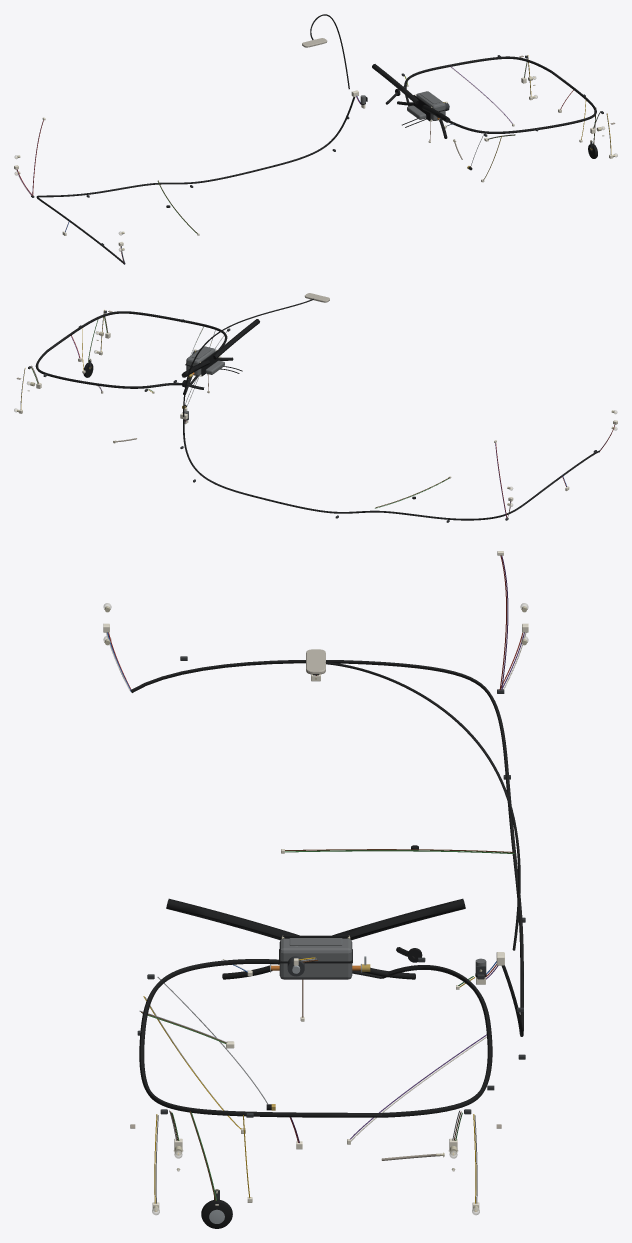
The model's file is electricite.glb.
3 renders of one model, top to bottom at view 1: azimuth 30°, elevation 25°; view 2: azimuth 150°, elevation 25°; view 3: azimuth 270°, elevation 25°, orthographic. The views are drawn at different scales.
Visible parts, largest first — view 1: faisceau-arriere.gaine-faisceau, faisceau-avant.gaine-faisceau, chauffage.noir, chauffage.plastique-gris; view 2: faisceau-arriere.gaine-faisceau, faisceau-avant.gaine-faisceau, chauffage.noir, chauffage.plastique-gris; view 3: faisceau-avant.gaine-faisceau, faisceau-arriere.gaine-faisceau, chauffage.noir, chauffage.plastique-gris, faisceau-avant.fil-gris.
Part boxes in pixels (x1,y1,x2,y2): faisceau-arriere.gaine-faisceau: (36,14,355,264); faisceau-avant.gaine-faisceau: (385,56,596,133); chauffage.noir: (372,64,450,127); chauffage.plastique-gris: (407,91,445,120); faisceau-arriere.gaine-faisceau: (183,298,599,520); faisceau-avant.gaine-faisceau: (35,311,227,389); chauffage.noir: (181,319,259,377); chauffage.plastique-gris: (186,346,224,375); faisceau-avant.gaine-faisceau: (139,947,492,1117); faisceau-arriere.gaine-faisceau: (130,660,523,1036); chauffage.noir: (166,898,465,963); chauffage.plastique-gris: (279,938,352,979); faisceau-avant.fil-gris: (139,977,477,1203).
Size of the model in its own units: 3.6 by 1.14 by 1.29.
